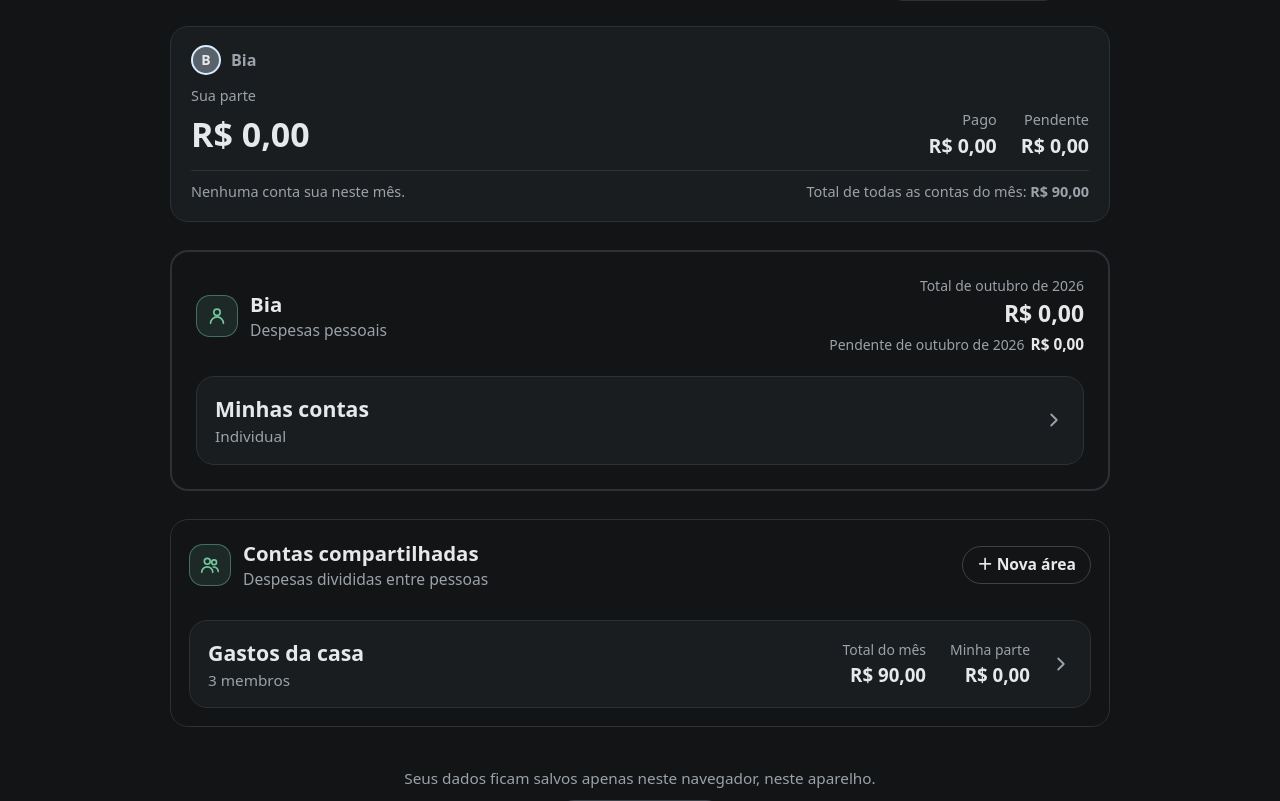
Test: M6: base da nova versão em "esta e as seguintes" › confirmação: série com fim lista as previstas que mudam
This screenshot has width=1280, height=801.
Click the button "Minhas contas Individual".
click(292, 408)  # box [197,377,1083,464]
(page scrolled)
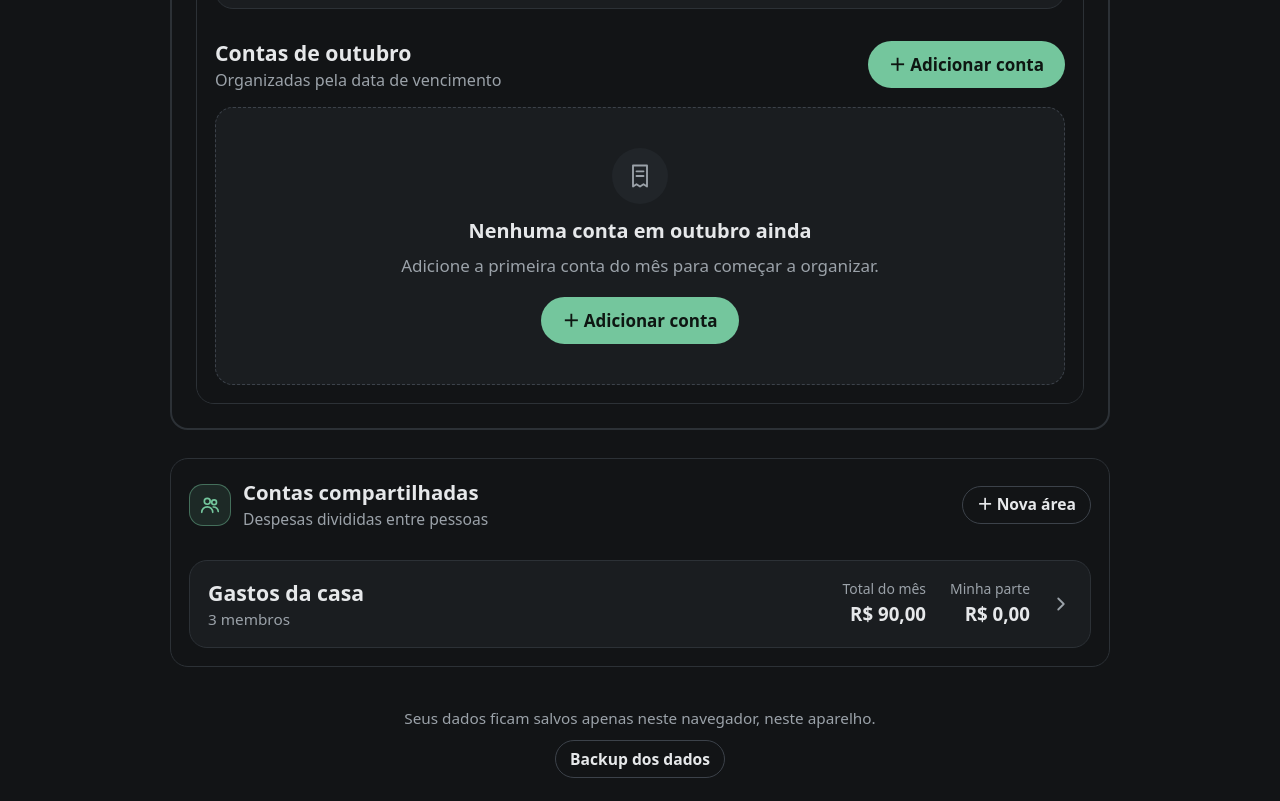
Click the button that starts with "Gastos da casa".
click(286, 592)  # box [190,560,1090,647]
(page scrolled)
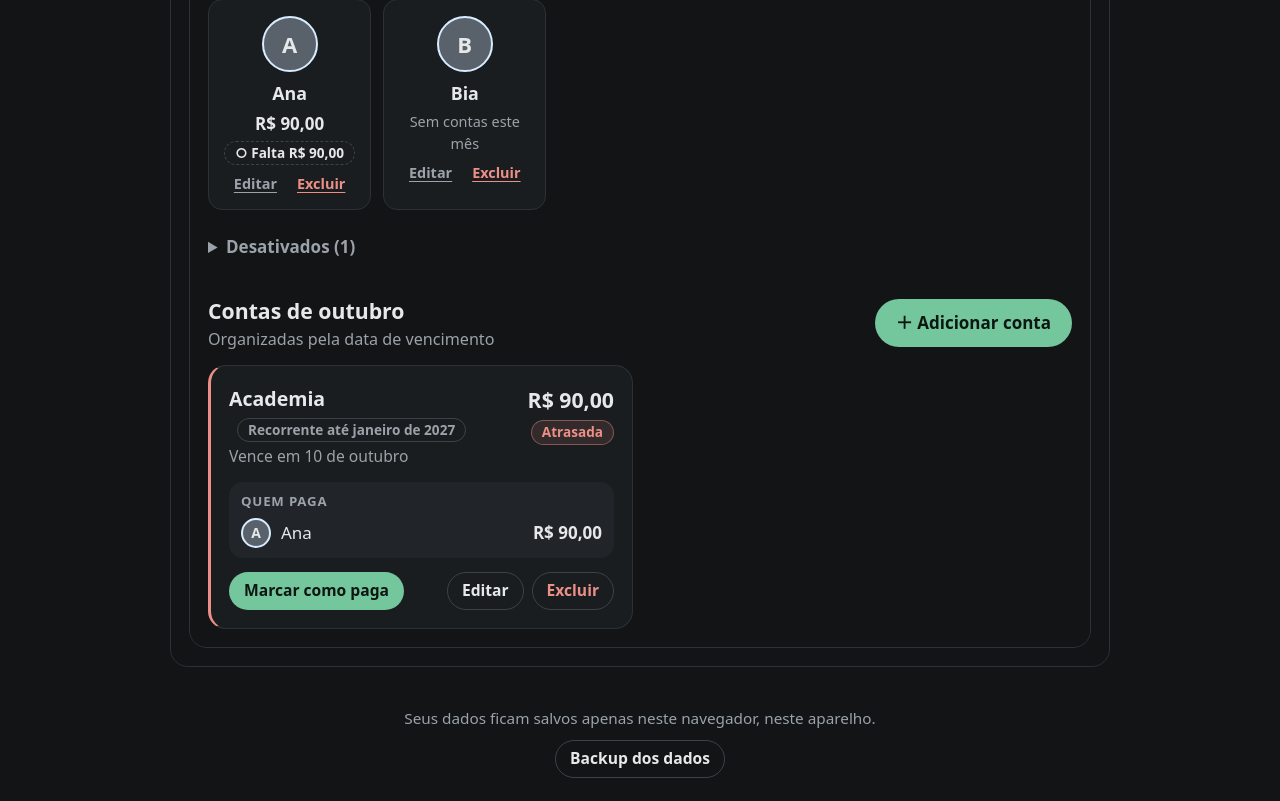
Click the button with aria-label "Editar a conta Academia".
click(485, 591)  # box [447,572,524,610]
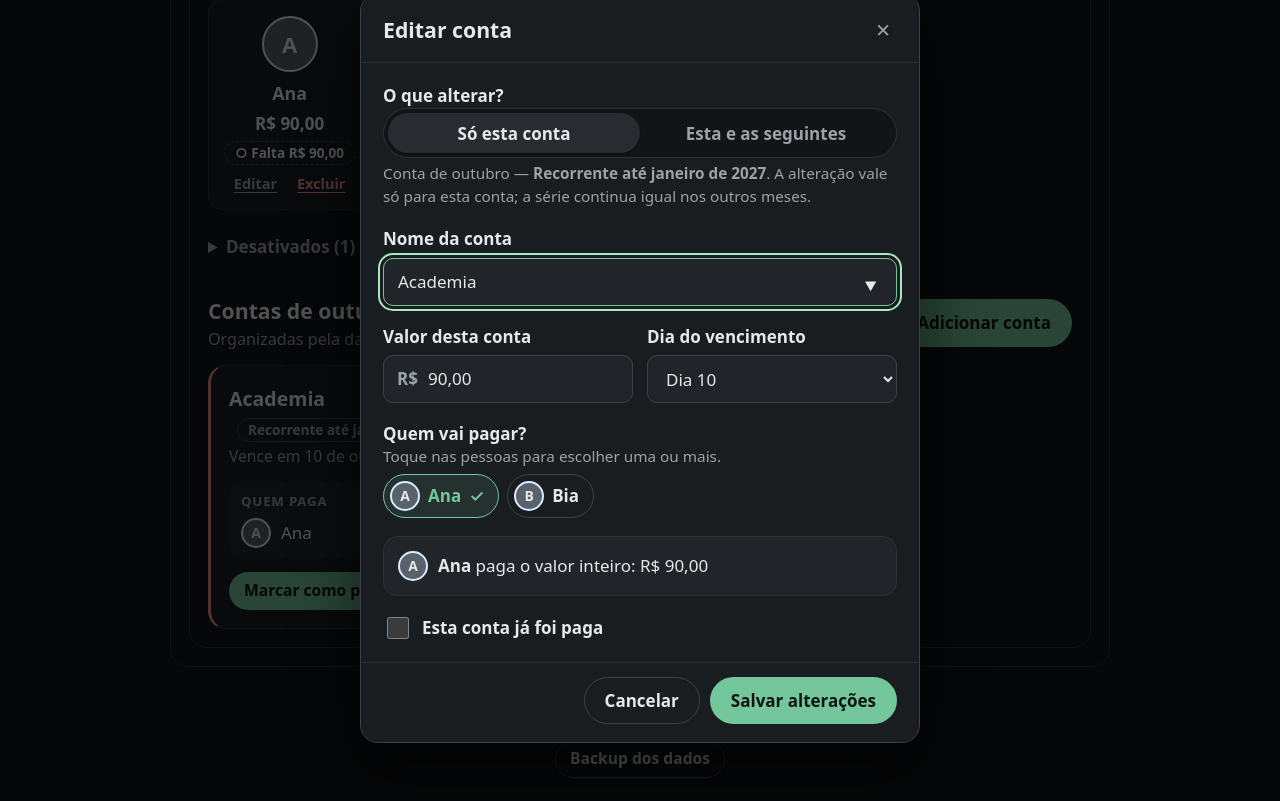
Click the button "Esta e as seguintes".
click(766, 133)  # box [640,113,892,153]
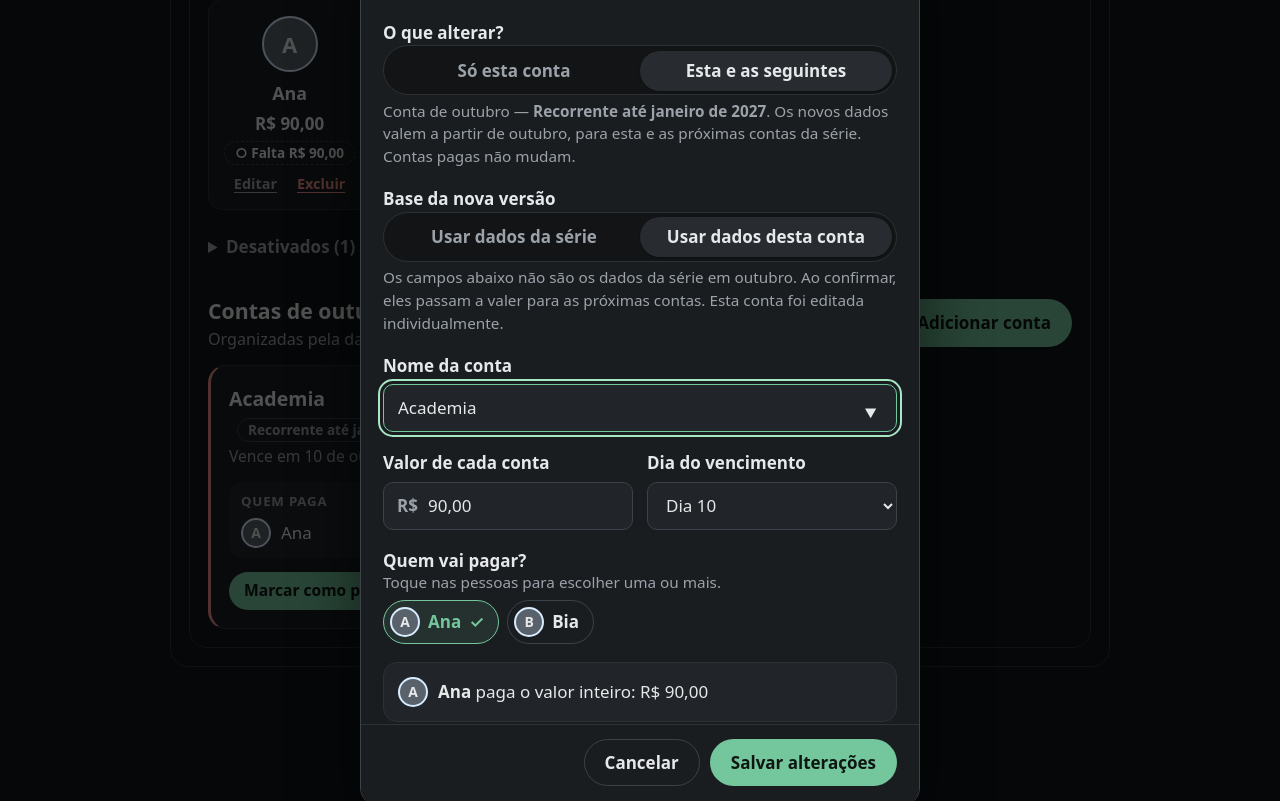
Click the button "Salvar alterações".
click(803, 763)  # box [710,740,897,787]
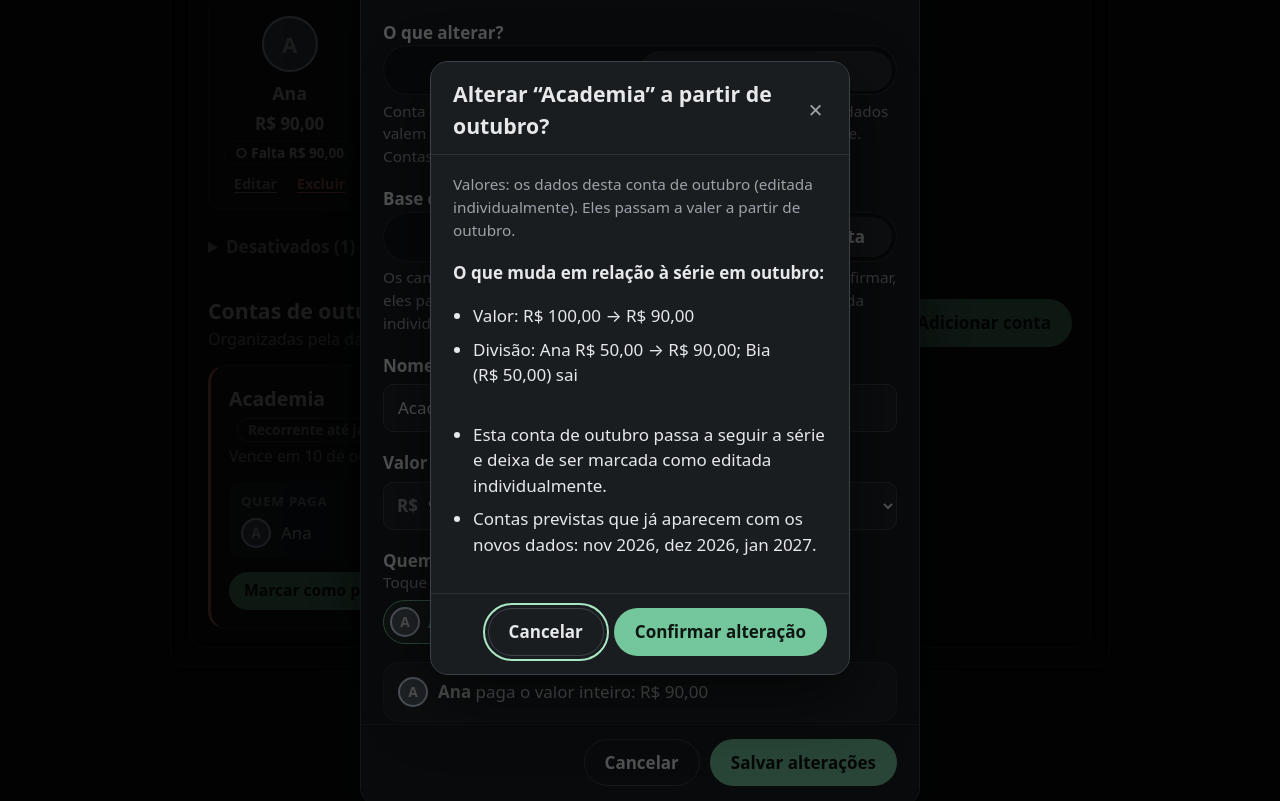
Expected: the list item "Contas previstas que já aparecem com os novos dados: nov 2026, dez 2026, jan 2027." is shown, [473,507,817,556]
